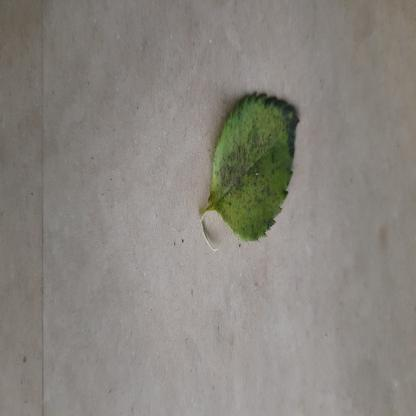downy-mildew: (208, 88, 302, 250)
